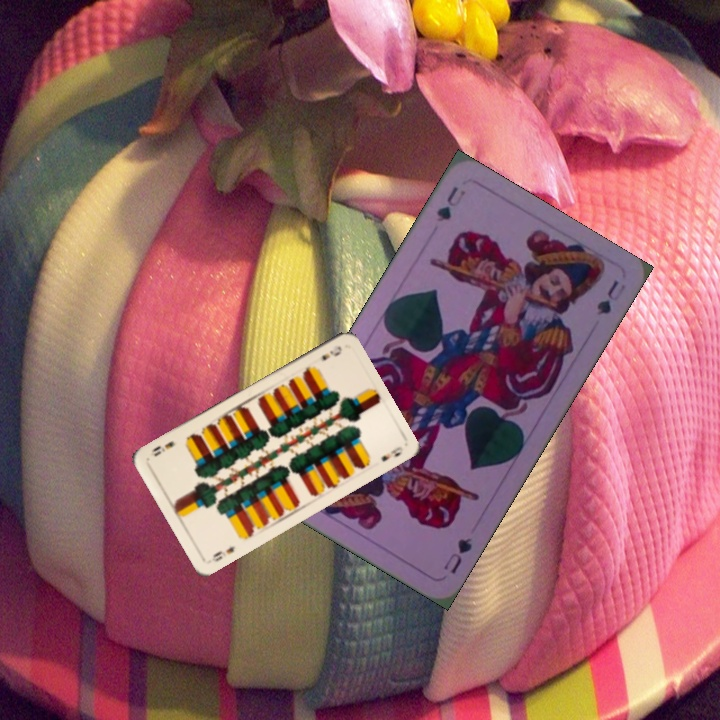E9: (208, 542, 238, 564), (317, 342, 345, 363)
GU: (439, 533, 475, 577), (432, 182, 468, 225)
